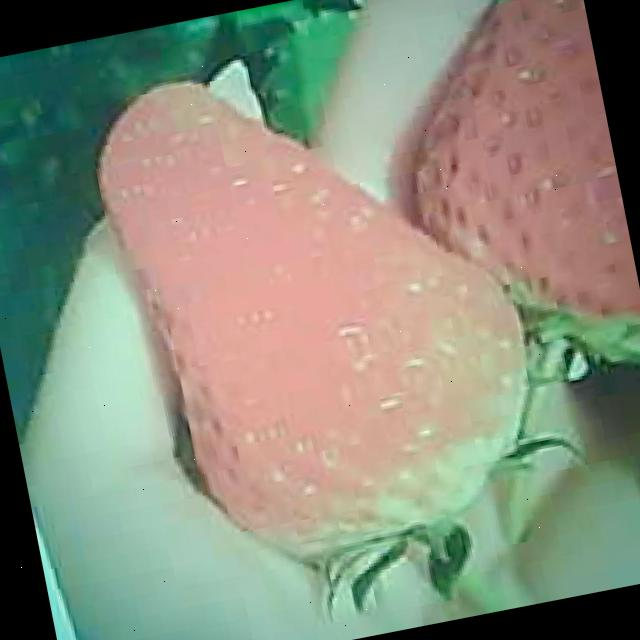strawberry: (82, 27, 553, 584)
